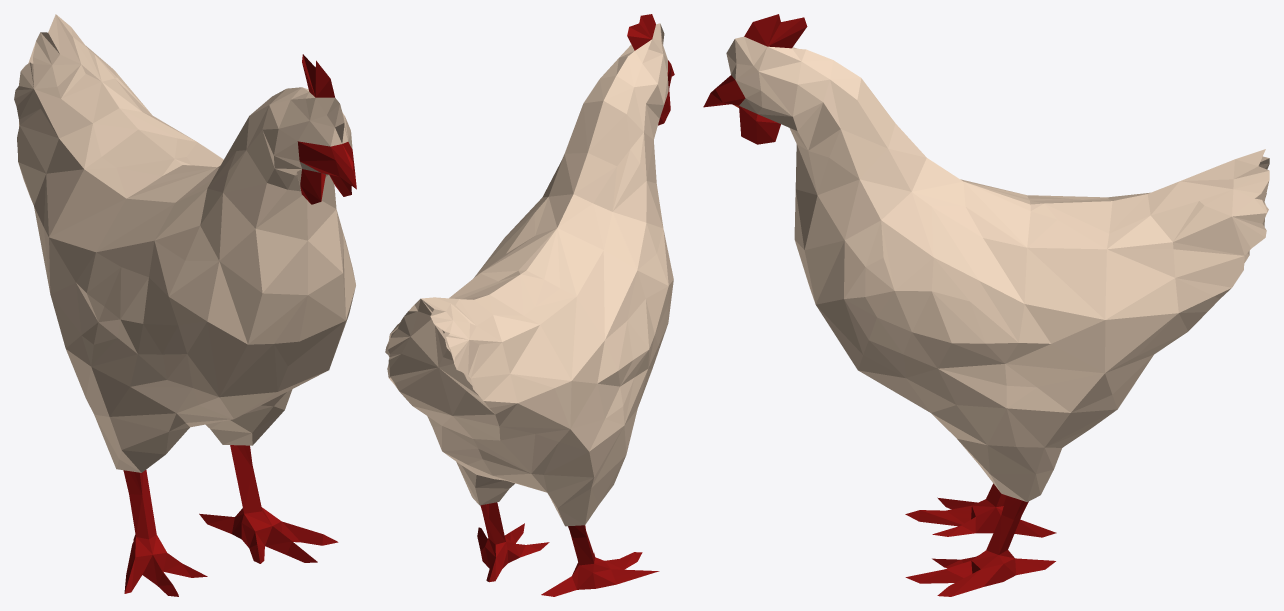
File: Hen_animation.fbx
3 views of the same model, side by side, from view 1: azimuth 30°, elevation 25°; view 2: azimuth 150°, elevation 25°; view 3: azimuth 270°, elevation 25° (orthographic). The views are drawn at different scales.
Parts seen in each view (by area): view 1: SM_Hen; view 2: SM_Hen; view 3: SM_Hen.
Part boxes in pixels (x1,y1,x2,y2): SM_Hen: [14, 14, 356, 596]; SM_Hen: [385, 14, 674, 596]; SM_Hen: [703, 14, 1269, 596].
Bounding box in the file's own units: 6.34 × 16.24 × 15.51.
Materials: 1 (1 with a texture image).
